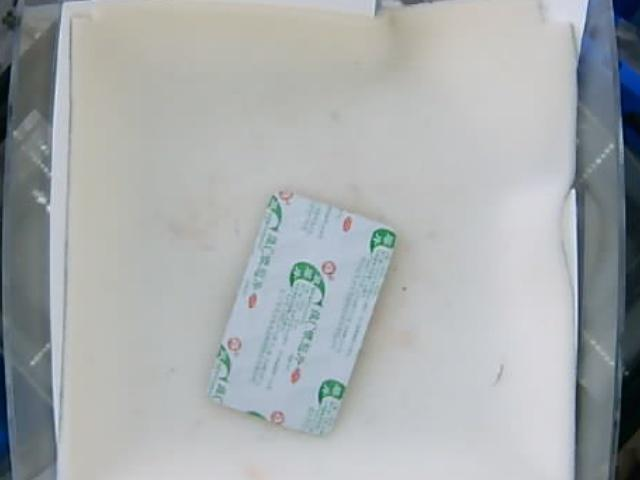Medicine: (213, 190, 391, 437)
